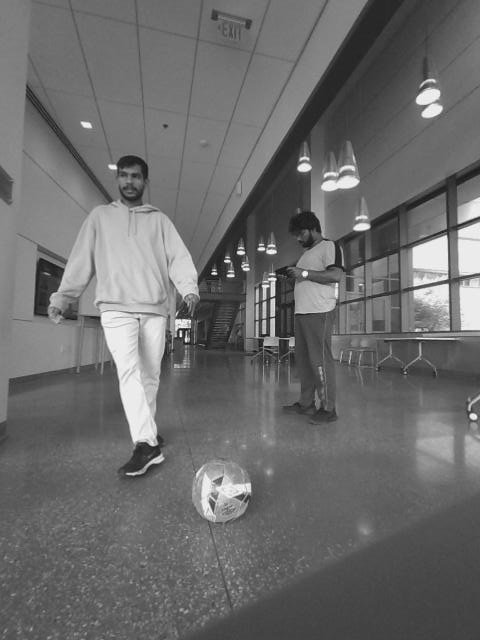ball: (188, 454, 256, 523)
